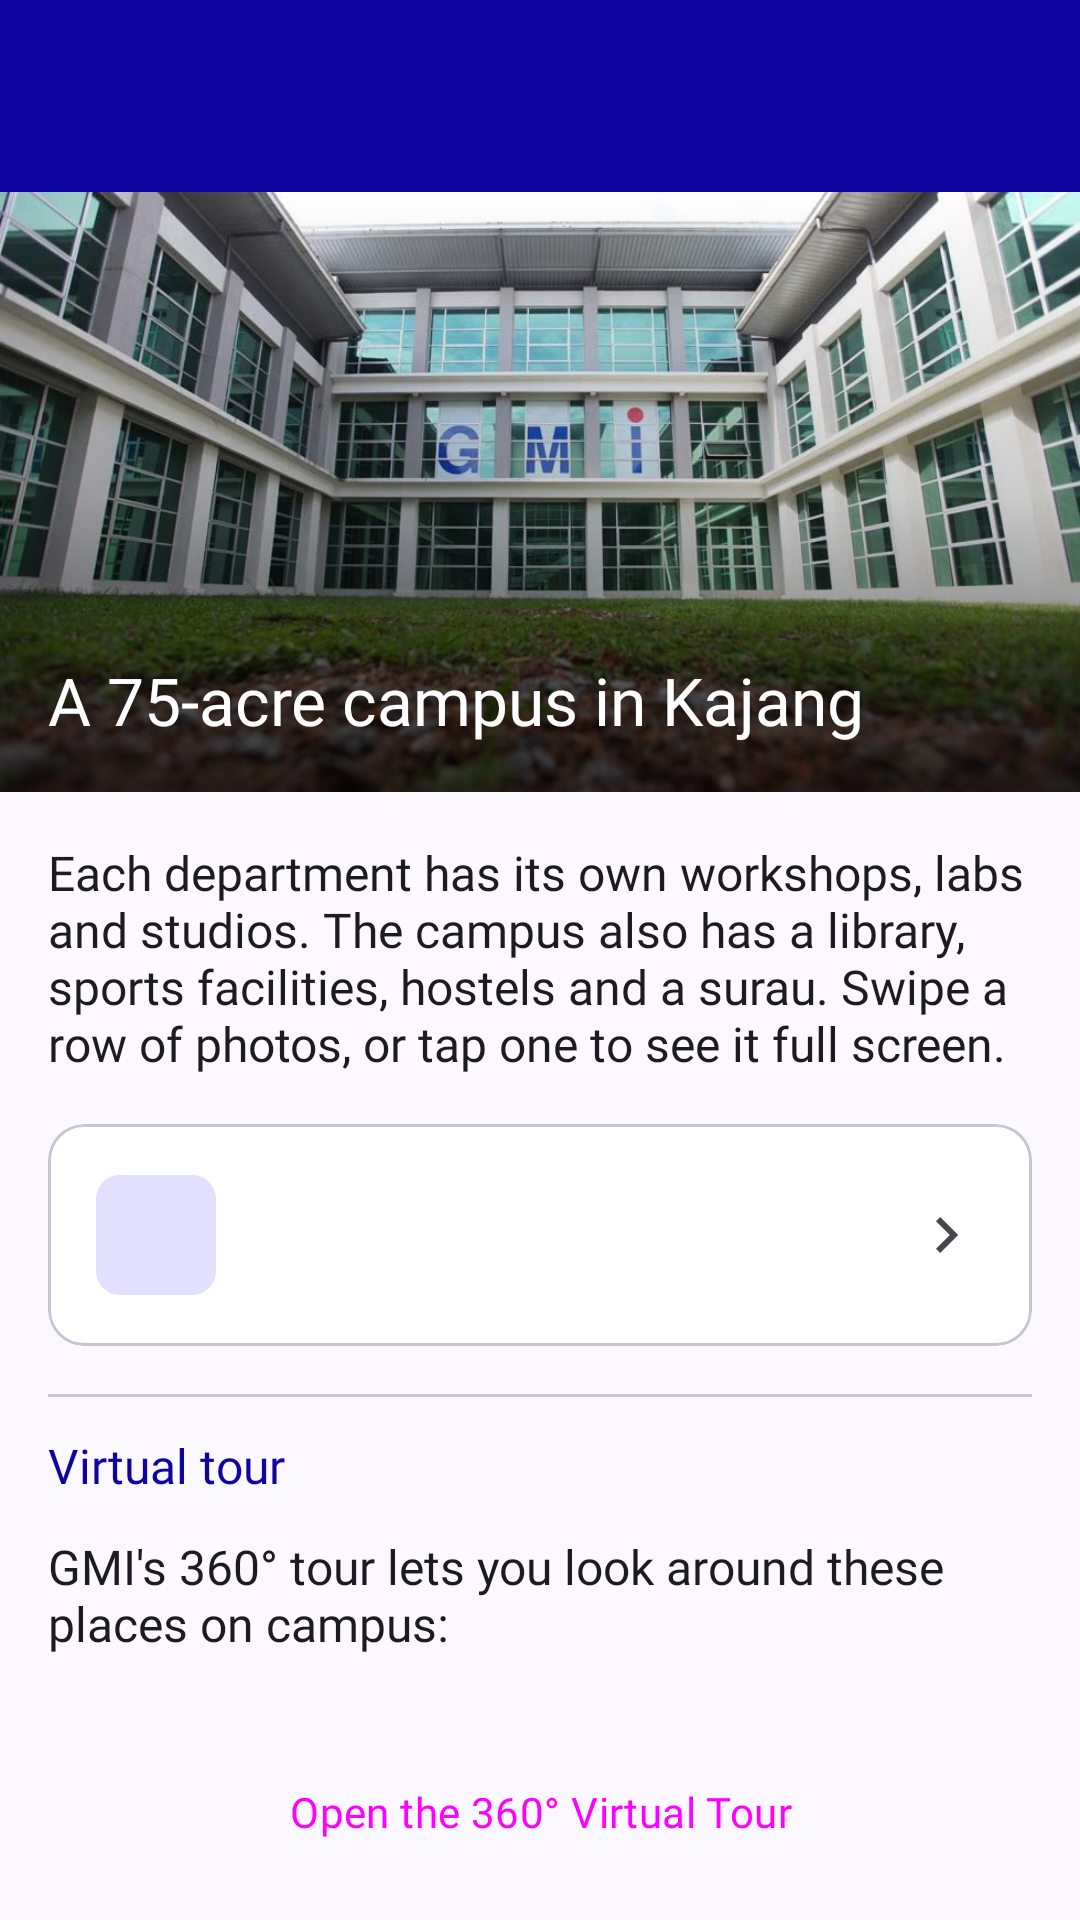

Where icons sit on this 1080px x 1920px app screen, as (x1, y1, x2, y2):
chevron right: (936, 1217, 958, 1253)
